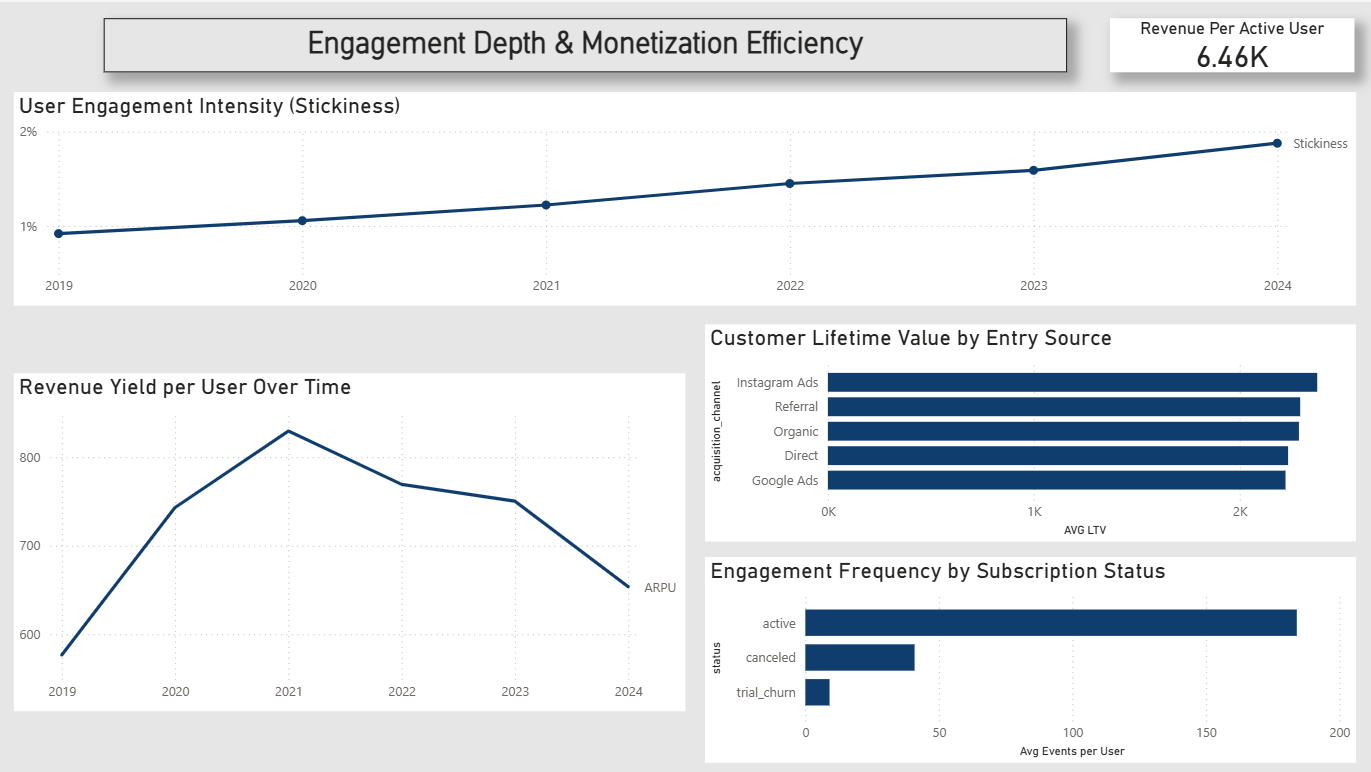

The dashboard page shown, as its layout file describes it:
{"tool":"powerbi","page":{"name":"Page 3","canvas":[1280,720],"ordinal":2},"visuals":[{"type":"lineChart","title":"Revenue Yield per User Over Time","fields":{"Category":["DateTable.Column Hierarchy.Year","DateTable.Column Hierarchy.Month"],"Y":["Table.ARPU"]},"box":[13.3,346.2,626.1,314.9],"z":0},{"type":"barChart","title":"Customer Lifetime Value by Entry Source","fields":{"Y":["Table.LTV"],"Category":["users.acquisition_channel"]},"box":[657.5,300.4,606.8,202.7],"z":1000},{"type":"card","title":"Revenue Per Active User","fields":{"Values":["Table.Revenue per Active User"]},"box":[1035.1,15.7,228,50.7],"z":2000},{"type":"barChart","title":"Engagement Frequency by Subscription Status","fields":{"Y":["Table.Avg Events per User"],"Category":["subscriptions.status"]},"box":[657.5,517.6,606.8,191.8],"z":3000},{"type":"lineChart","title":"User Engagement Intensity (Stickiness)","fields":{"Y":["Table.Stickiness"],"Category":["DateTable.Column Hierarchy.Year","DateTable.Column Hierarchy.Month"]},"box":[13.3,84.5,1252.3,199.1],"z":4000},{"type":"textbox","box":[96.5,15.7,898.8,50.7],"z":4001}]}

Visuals, with their boxes in screenshot pixels (x1, y1, x2, y2), scaled from the page's 1280x720 canvas onto the 1371x772 screenshot:
"Revenue Yield per User Over Time" lineChart: [x1=14, y1=371, x2=685, y2=709]
"Customer Lifetime Value by Entry Source" barChart: [x1=704, y1=322, x2=1354, y2=539]
"Revenue Per Active User" card: [x1=1109, y1=17, x2=1353, y2=71]
"Engagement Frequency by Subscription Status" barChart: [x1=704, y1=555, x2=1354, y2=761]
"User Engagement Intensity (Stickiness)" lineChart: [x1=14, y1=91, x2=1356, y2=304]
textbox: [x1=103, y1=17, x2=1066, y2=71]
